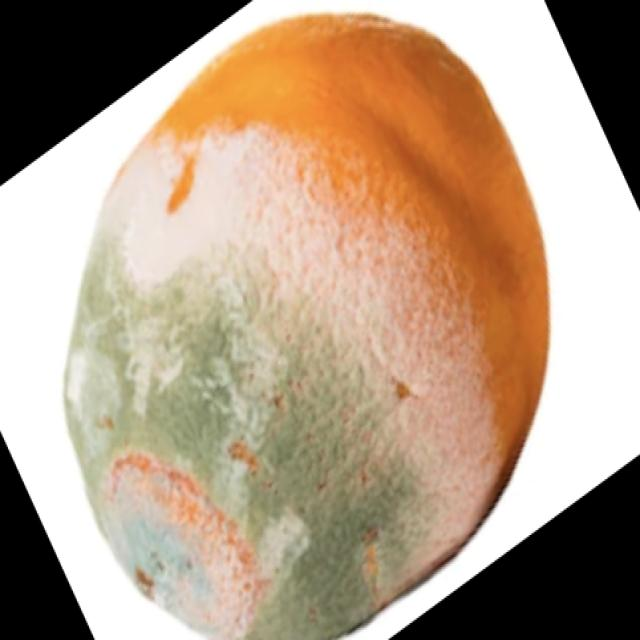sangat_busuk: (66, 14, 551, 638)
